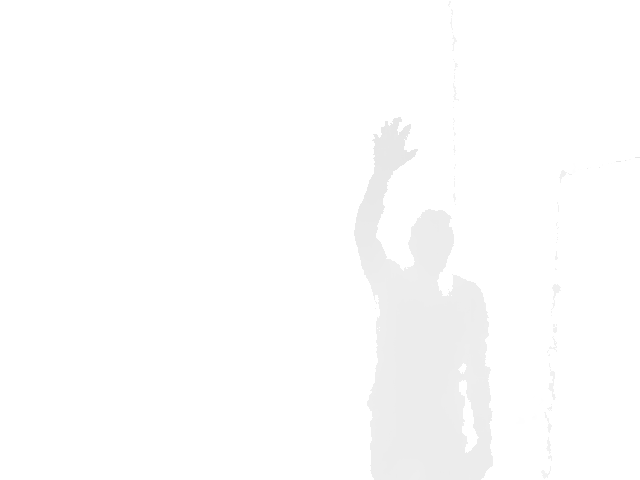hand: (370, 116, 419, 174)
head: (408, 207, 456, 270)
person: (352, 116, 496, 480)
